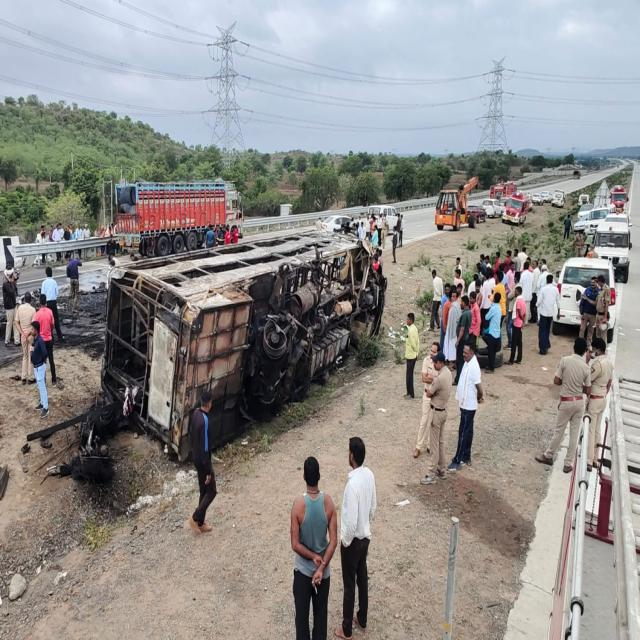accident: (101, 231, 386, 459)
car: (554, 257, 619, 342), (594, 219, 631, 283)
emergency: (502, 191, 530, 225)
truck: (115, 180, 244, 257), (435, 176, 478, 231)
